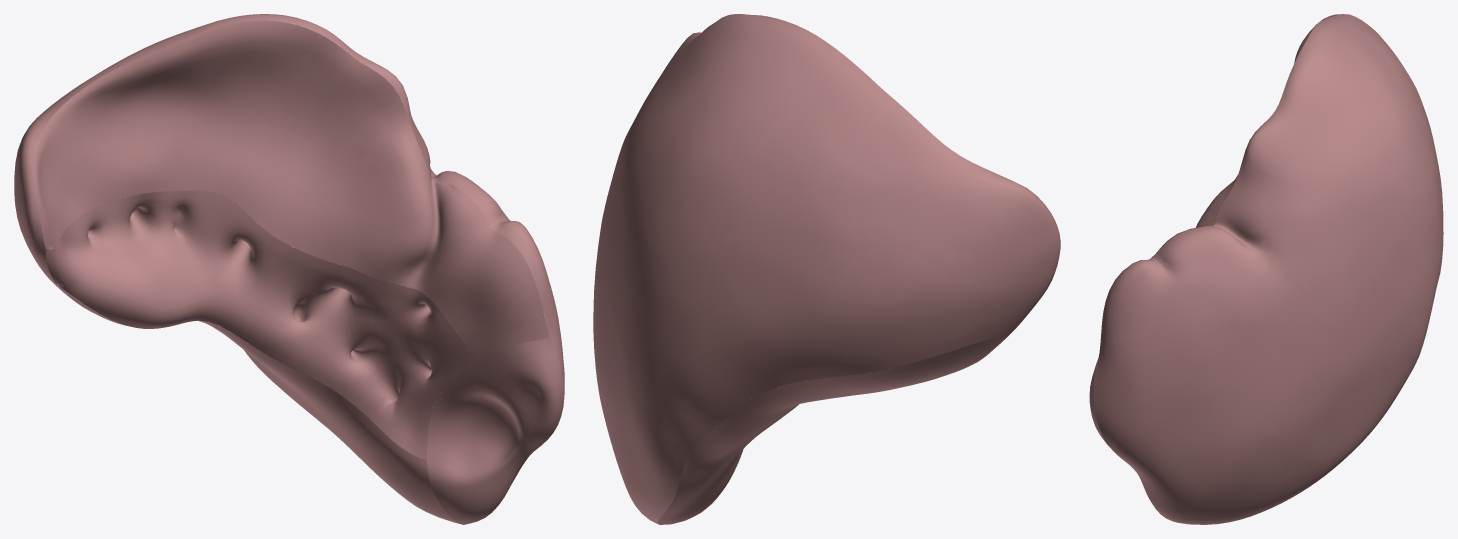
File: spleen.glb
The picture shows the model from 3 angles, left to right: view 1: azimuth 30°, elevation 25°; view 2: azimuth 150°, elevation 25°; view 3: azimuth 270°, elevation 25°; orthographic projection. The views are drawn at different scales.
Parts seen in each view (by area): view 1: VH_M_gastric_surface_of_spleen, VH_M_hilum_of_spleen, VH_M_colic_surface_of_spleen, VH_M_diaphragmatic_surface_of_spleen, VH_M_renal_surface_of_spleen; view 2: VH_M_diaphragmatic_surface_of_spleen, VH_M_renal_surface_of_spleen; view 3: VH_M_diaphragmatic_surface_of_spleen, VH_M_gastric_surface_of_spleen.
Part boxes in pixels (bbox=[...]): VH_M_gastric_surface_of_spleen: bbox=[35, 20, 549, 359]; VH_M_hilum_of_spleen: bbox=[45, 190, 477, 458]; VH_M_colic_surface_of_spleen: bbox=[427, 337, 564, 524]; VH_M_diaphragmatic_surface_of_spleen: bbox=[14, 14, 564, 505]; VH_M_renal_surface_of_spleen: bbox=[51, 281, 459, 523]; VH_M_diaphragmatic_surface_of_spleen: bbox=[593, 14, 1060, 523]; VH_M_renal_surface_of_spleen: bbox=[657, 337, 1006, 524]; VH_M_diaphragmatic_surface_of_spleen: bbox=[1093, 14, 1443, 524]; VH_M_gastric_surface_of_spleen: bbox=[1149, 27, 1314, 259].
Size of the model in its own units: 0.1104 by 0.1186 by 0.0886.
